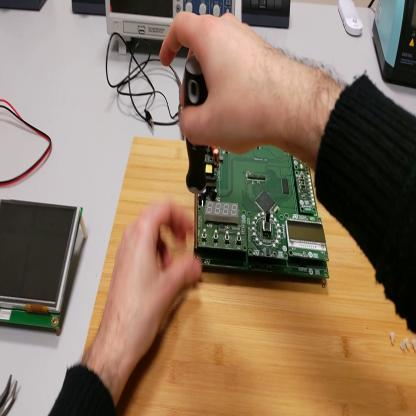hand: (160, 11, 281, 157), (102, 197, 203, 365)
low voltage board: (197, 144, 330, 279)
oscilloscope: (104, 1, 238, 58)
oscilloscope probe tip: (175, 71, 184, 113)
pliers: (2, 379, 20, 415)
screwdriver-: (186, 58, 207, 250)
socket: (1, 1, 48, 16), (72, 3, 108, 16)
welder station: (373, 1, 416, 89)
working area: (85, 140, 416, 416)
